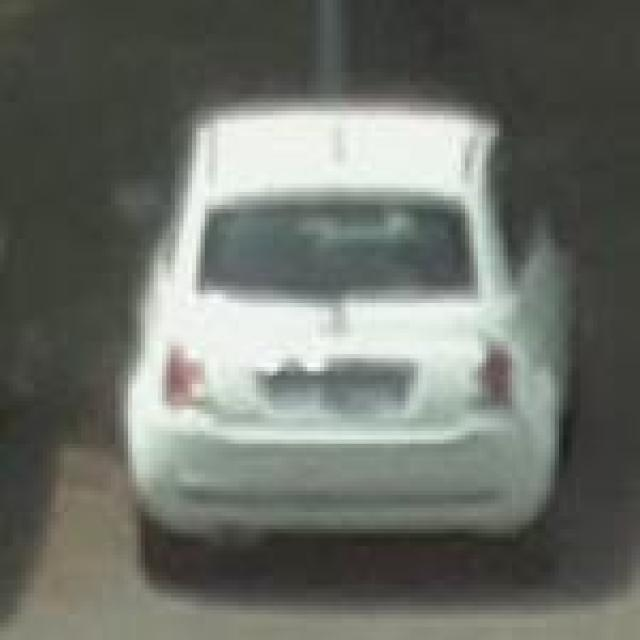cars-sUYr: (94, 70, 599, 604)
